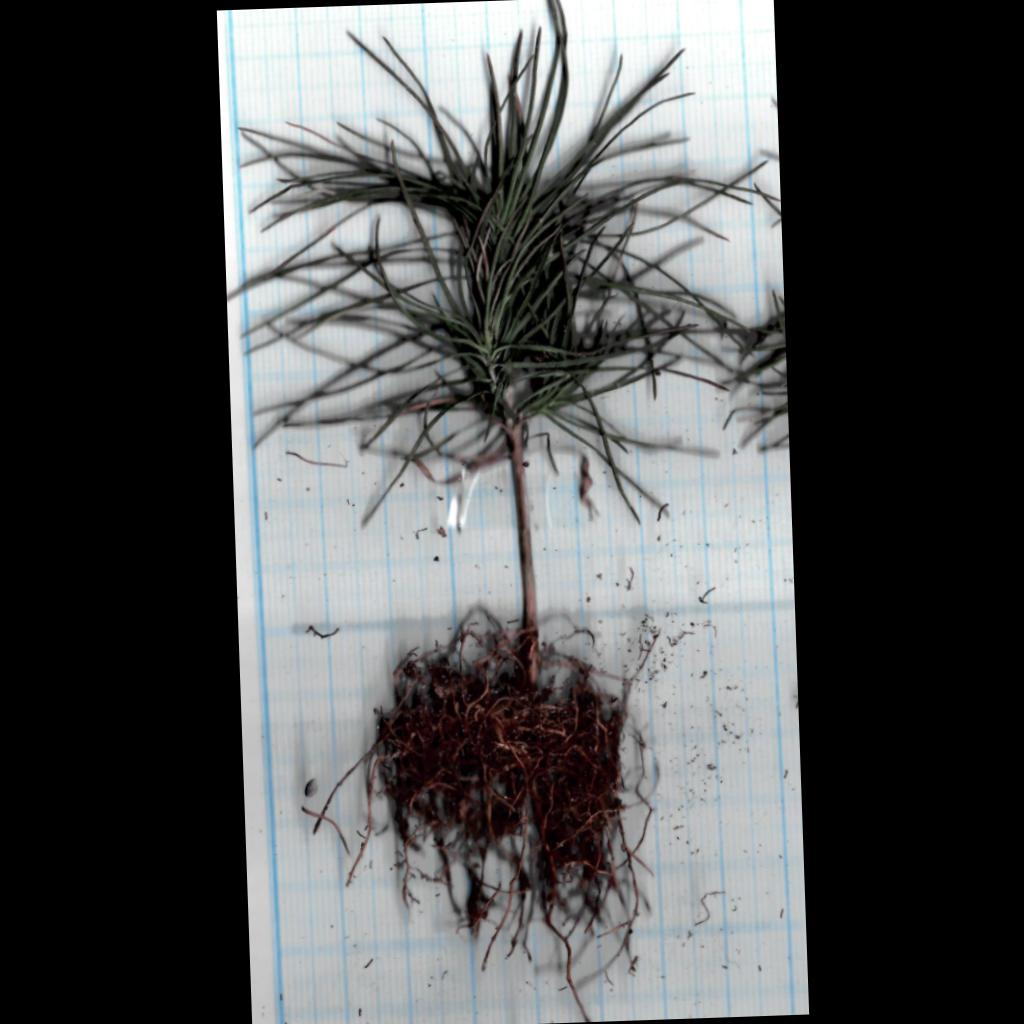flowerCedr: (237, 0, 748, 520)
rootCedr: (304, 622, 652, 1021)
stemCedr: (509, 426, 539, 683)
